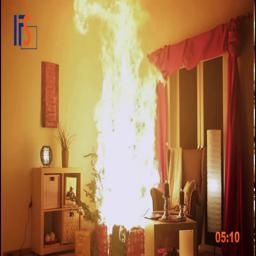fire: (64, 0, 169, 229)
